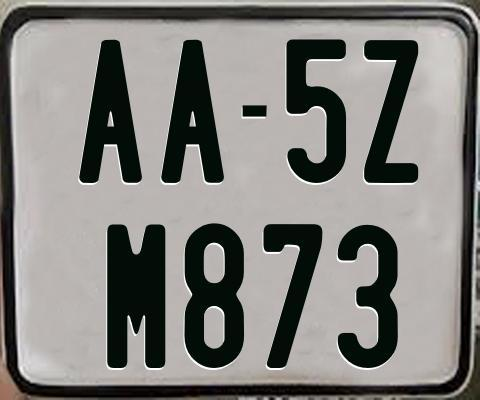3: (337, 223, 400, 372)
5: (284, 36, 347, 180)
7: (260, 223, 321, 370)
8: (184, 221, 247, 369)
A: (158, 40, 222, 185), (77, 38, 140, 184)
M: (106, 222, 165, 366)
Z: (363, 40, 420, 188)
